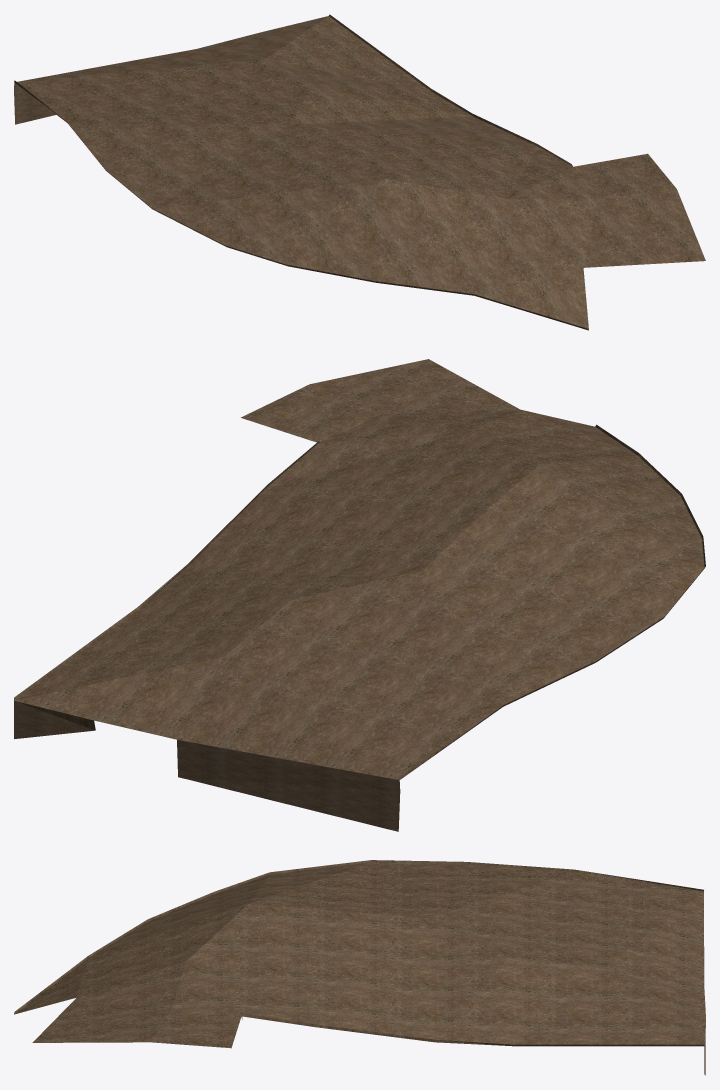
Rendered from lodlpalos08_las01.obj.
3 renders of one model, top to bottom at view 1: azimuth 30°, elevation 25°; view 2: azimuth 150°, elevation 25°; view 3: azimuth 270°, elevation 25°, orthographic. The views are drawn at different scales.
Parts seen in each view (by area): view 1: LODlpalos08_LAs01; view 2: LODlpalos08_LAs01; view 3: LODlpalos08_LAs01.
Boxes of the visible parts, x1,y1,x2,y2 form: LODlpalos08_LAs01: [14, 14, 705, 330]; LODlpalos08_LAs01: [14, 359, 705, 831]; LODlpalos08_LAs01: [14, 860, 705, 1075].
Size of the model in its own units: 118 by 24.61 by 178.
1 material, 1 textured.
